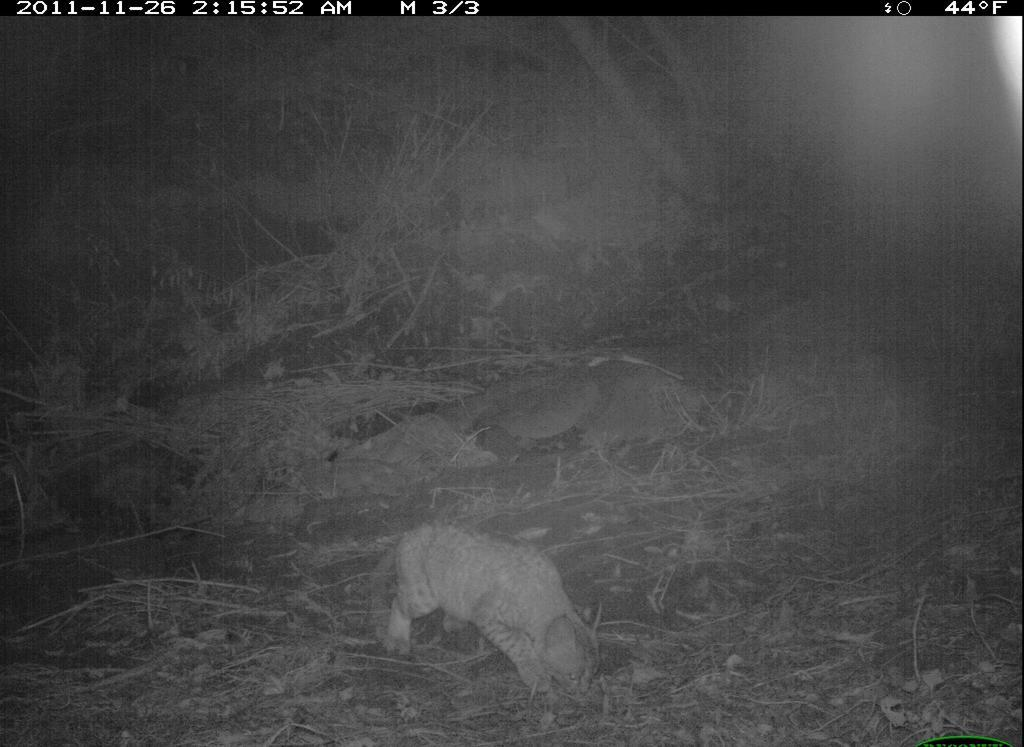bobcat: (358, 514, 616, 719)
